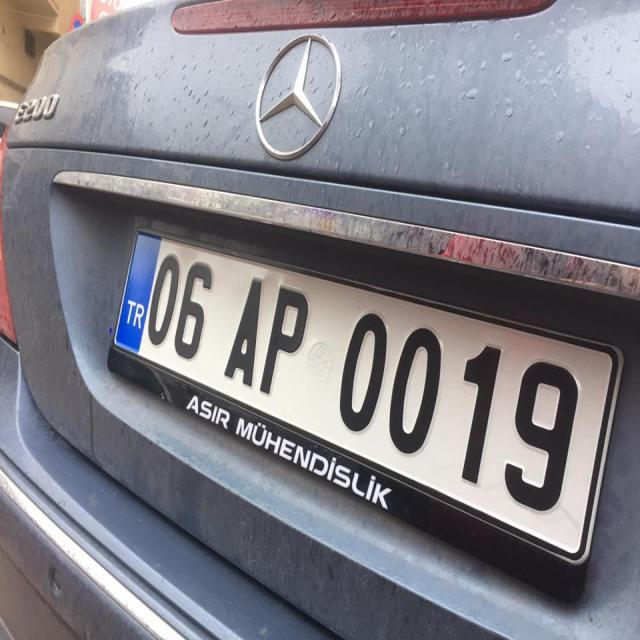plate: (108, 220, 628, 568)
